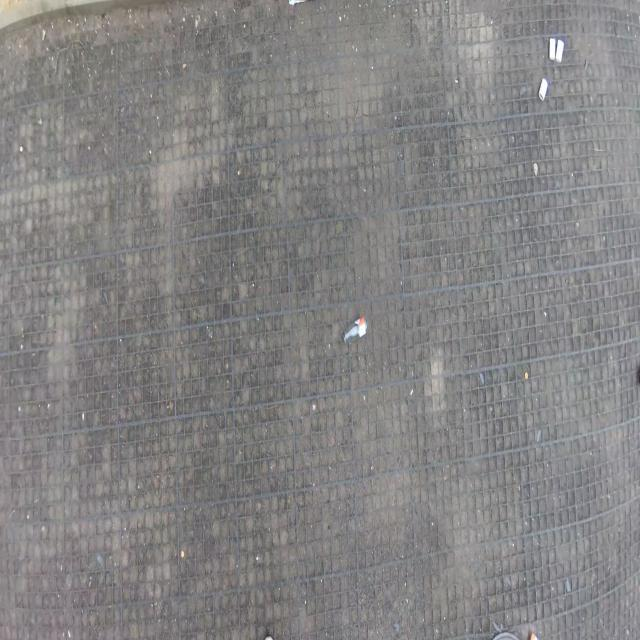rubbish: (344, 313, 369, 342), (555, 39, 565, 63), (538, 79, 548, 100), (549, 39, 555, 61), (289, 0, 308, 6), (529, 632, 540, 639)
